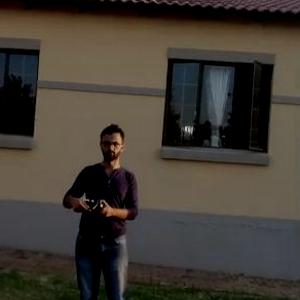follow: (53, 118, 145, 299)
